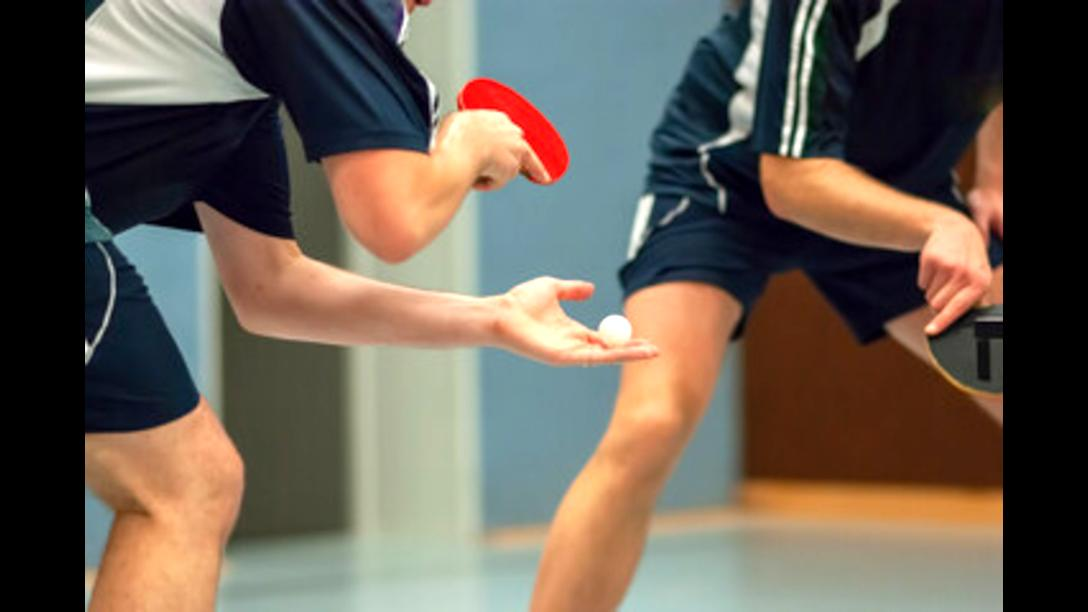Table-Tennis-Ball: (600, 315, 631, 345)
